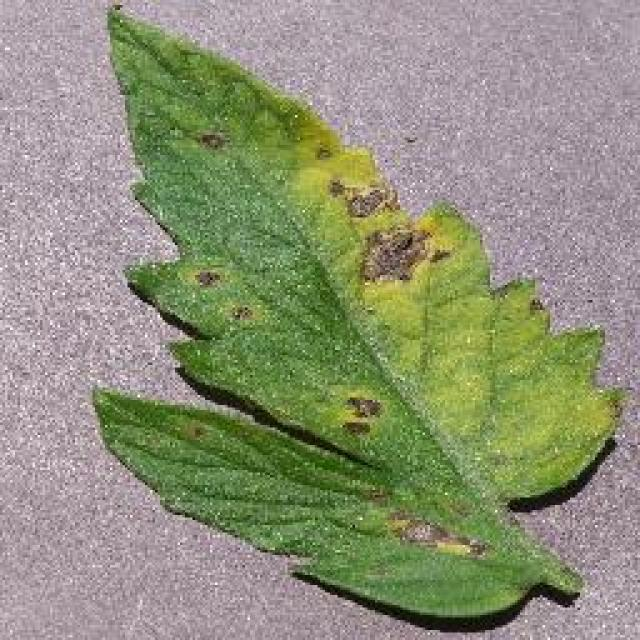Tom_Septoria_leaf_spot: (328, 142, 448, 298), (360, 480, 511, 579), (180, 252, 272, 344), (327, 375, 385, 450)
